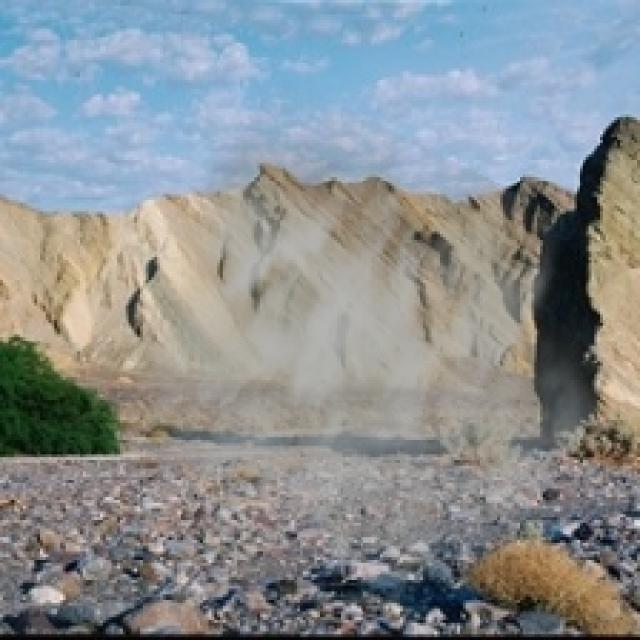smoke: (111, 74, 628, 606)
